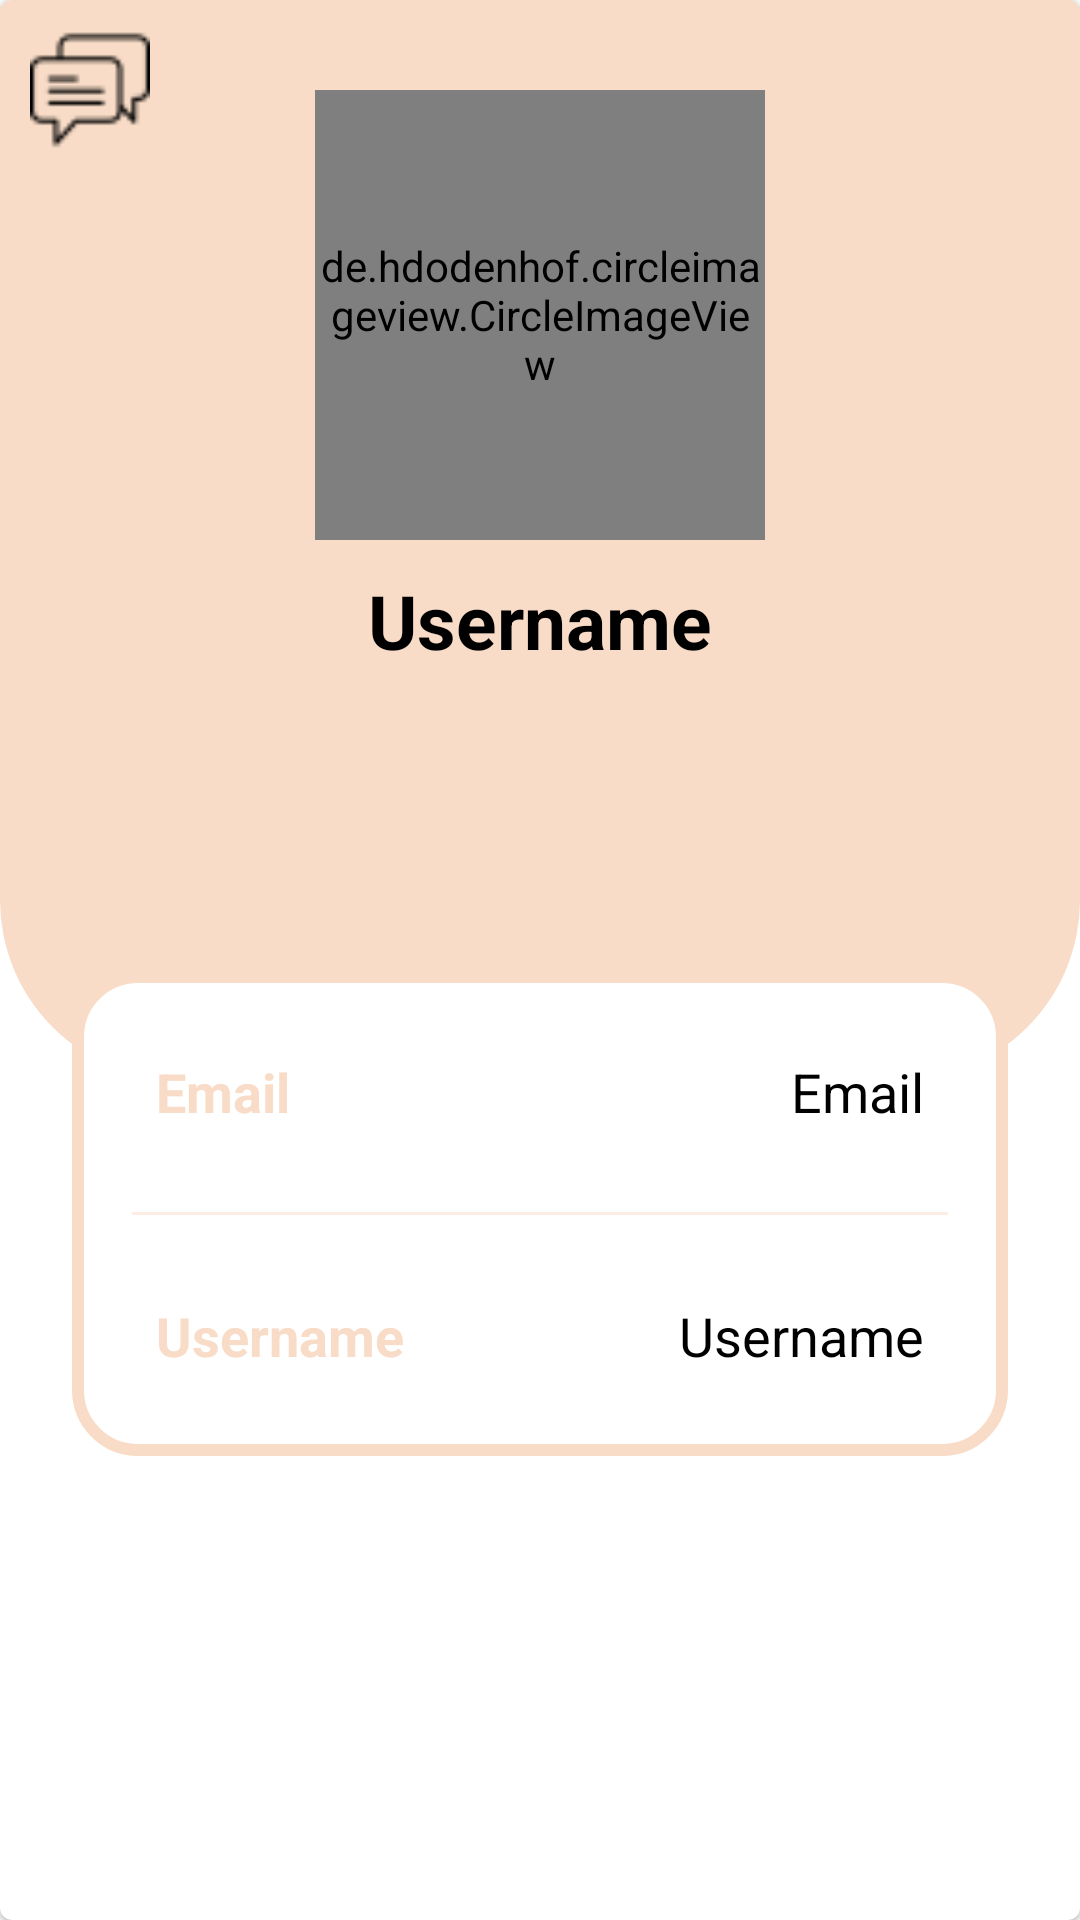

Named icons in this screenshot (1080×1920) and their bounding boxes, (x1, y1, x2, y2):
chat: (30, 32, 150, 147)
